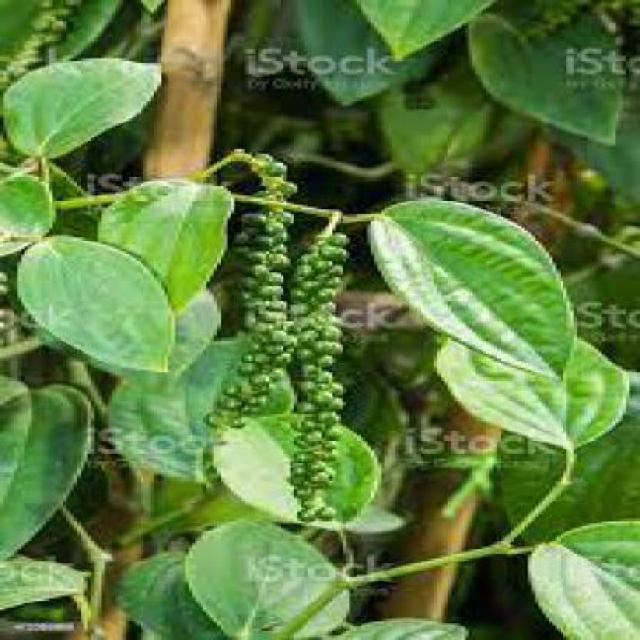UNRIPE: (283, 214, 357, 543), (228, 158, 294, 437)
